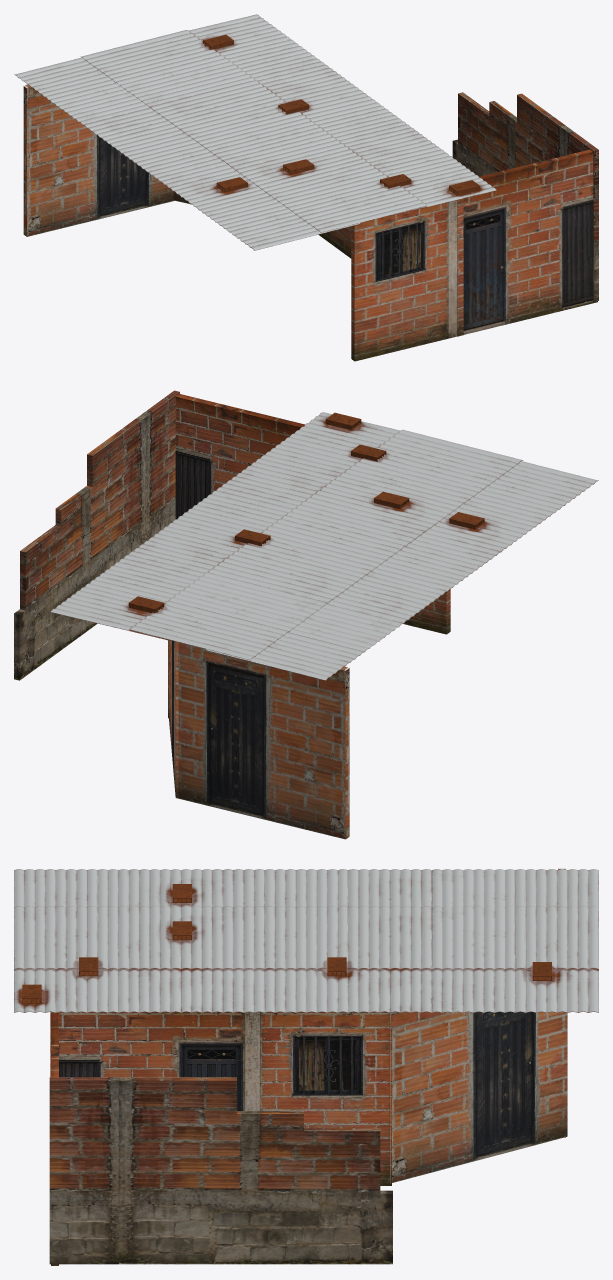
The model's file is casa_derecha_08_07.fbx.
The picture shows the model from 3 angles, top to bottom: view 1: azimuth 30°, elevation 25°; view 2: azimuth 150°, elevation 25°; view 3: azimuth 270°, elevation 25°; orthographic projection. The views are drawn at different scales.
Visible parts, largest first — view 1: Techo_04.002, casa_derecha_07B.002, casa_derecha_07A.002, casa_derecho_08.001, casa_derecha_07B.001; view 2: Techo_04.002, casa_derecha_07A.002, casa_derecho_08.001, casa_derecha_07B.002, casa_derecha_07A.001; view 3: Techo_04.002, casa_derecho_08.001, casa_derecha_07B.001, casa_derecha_07A.001, casa_derecha_07B.002.
Boxes of the visible parts, x1,y1,x2,y2 form: Techo_04.002: (14,14,496,250); casa_derecha_07B.002: (351,149,597,361); casa_derecha_07A.002: (23,84,174,236); casa_derecho_08.001: (452,92,598,301); casa_derecha_07B.001: (318,198,463,336); Techo_04.002: (51,412,598,680); casa_derecha_07A.002: (176,642,349,839); casa_derecho_08.001: (14,390,179,680); casa_derecha_07B.002: (175,394,450,634); casa_derecha_07A.001: (168,640,178,797); Techo_04.002: (14,869,598,1012); casa_derecho_08.001: (49,1077,392,1264); casa_derecha_07B.001: (50,1011,391,1185); casa_derecha_07A.001: (389,1011,567,1183); casa_derecha_07B.002: (51,1012,58,1265).
Bounding box in the file's own units: 1409 × 584 × 1615.
